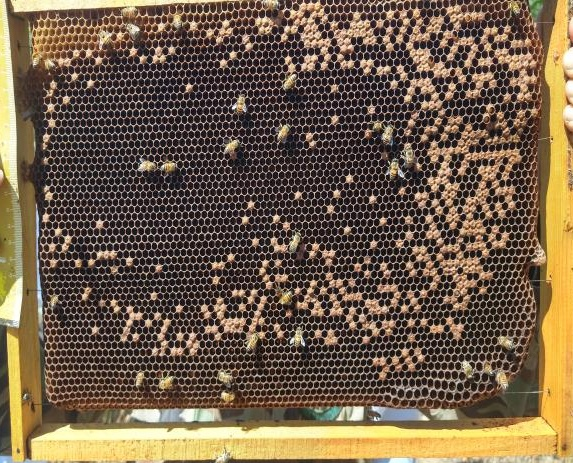cria: (255, 0, 541, 383), (41, 16, 310, 365)
